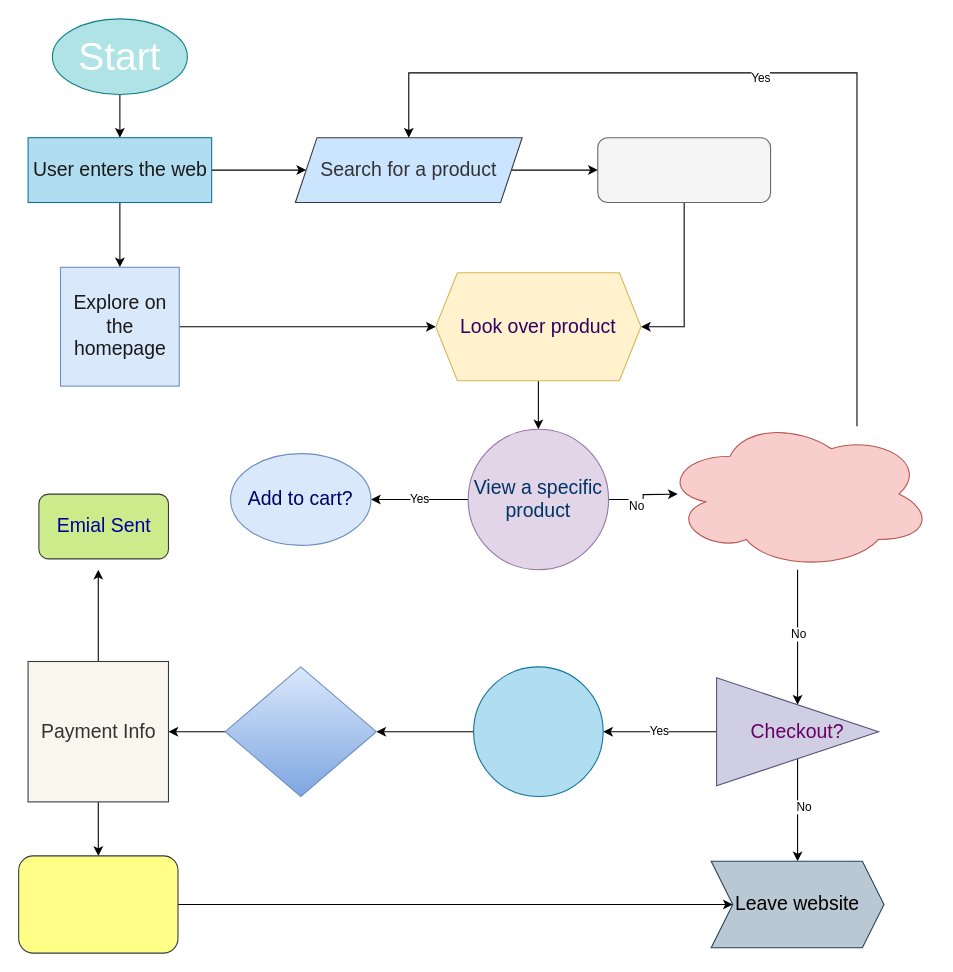
The diagram is 953 pixels wide and 972 high, and some of its shapes have lost their labels. Each missing label, with the box of its shape:
Continue shopping?: (662, 417, 933, 570)
Input for the search: (597, 137, 771, 202)
Order Confirmation: (18, 855, 178, 953)
View Cart: (473, 666, 603, 796)
View Payment: (224, 666, 376, 796)
